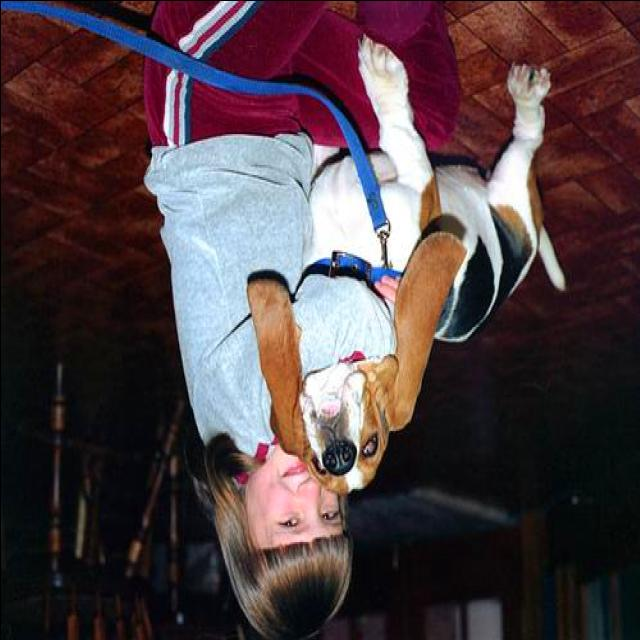basset: (240, 38, 570, 496)
